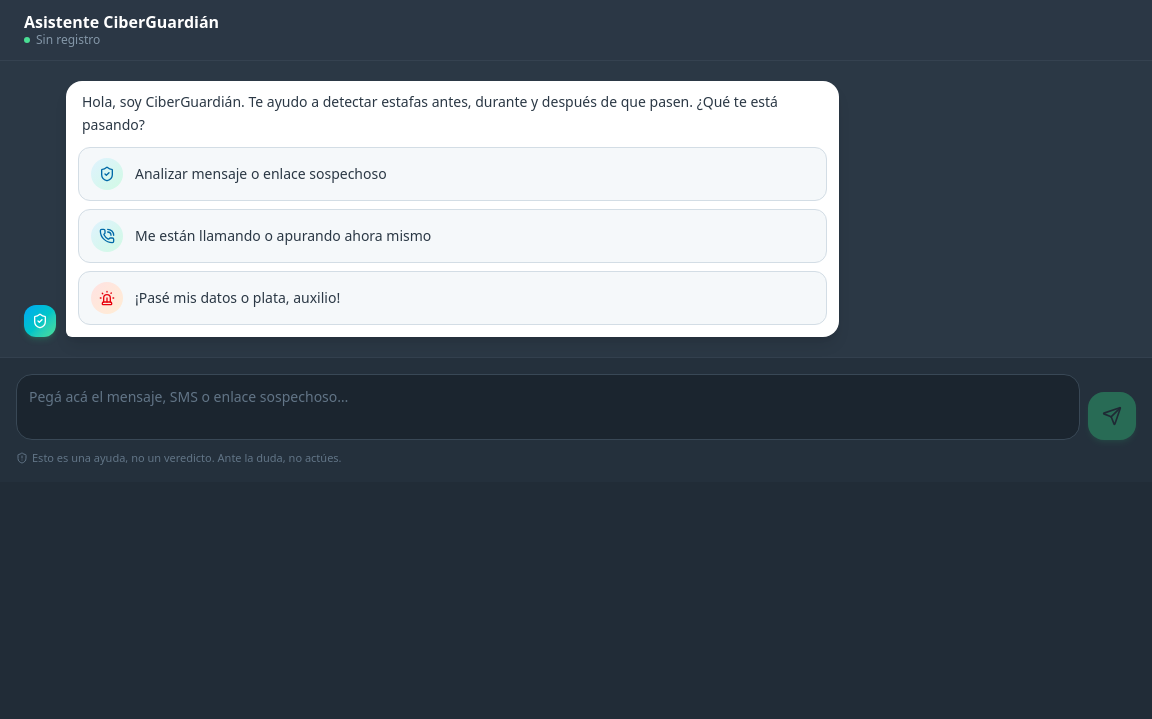
Scenario: ChatAssistant: preguntas de seguimiento (FH26-57) › envía la pregunta con el diagnóstico, el mensaje original y la sesión
This screenshot has width=1152, height=719.
Type "Banco Formosa: pasame el token urgente" into the text box named "Mensaje sospechoso" at (548, 406), box x1=16 y1=374 x2=1080 y2=440
Then press Enter
(page scrolled)
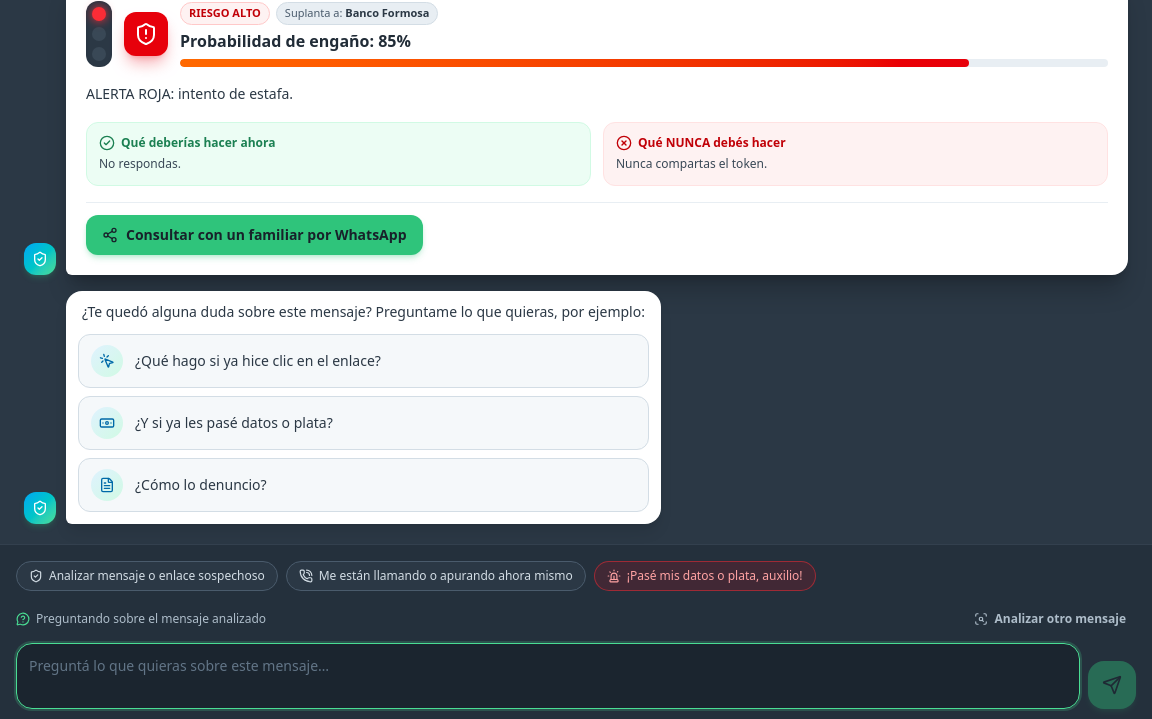
Expected: the text "ALERTA ROJA: intento de estafa." is shown, x1=86 y1=84 x2=293 y2=103
Click the button "¿Qué hago si ya hice clic en el enlace?" at (363, 361), box x1=78 y1=334 x2=649 y2=388
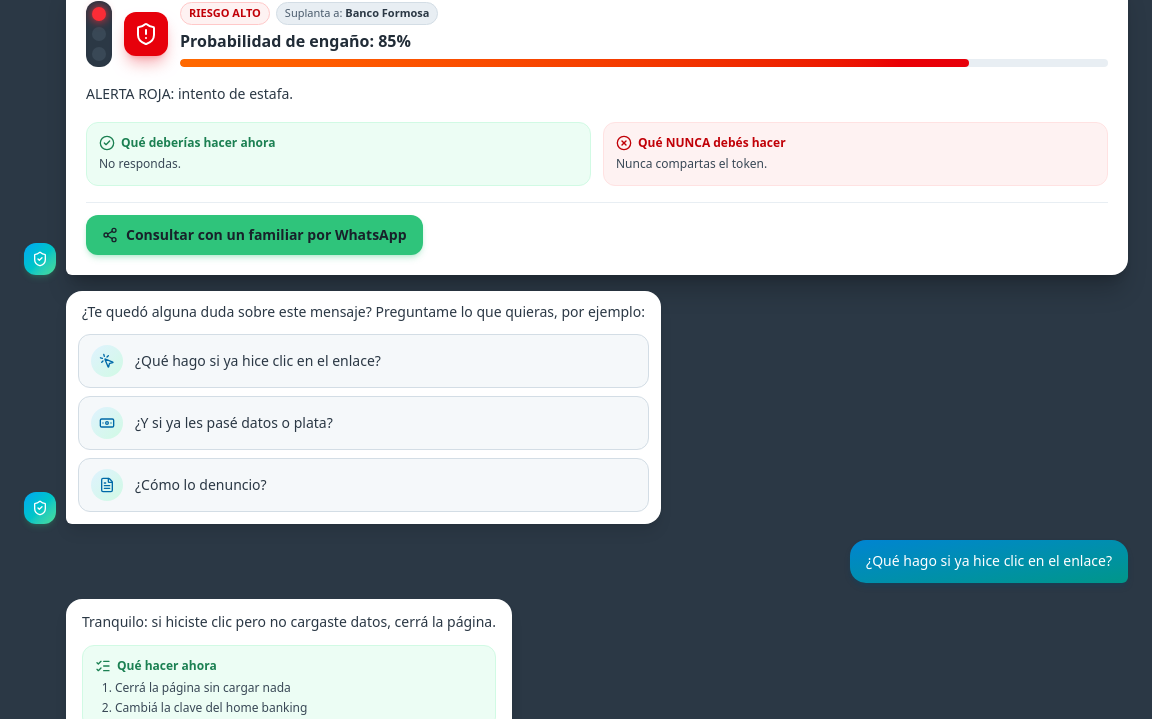
Expected: the text "Tranquilo: si hiciste clic pero no cargaste datos, cerrá la página." is shown, x1=82 y1=610 x2=496 y2=633
